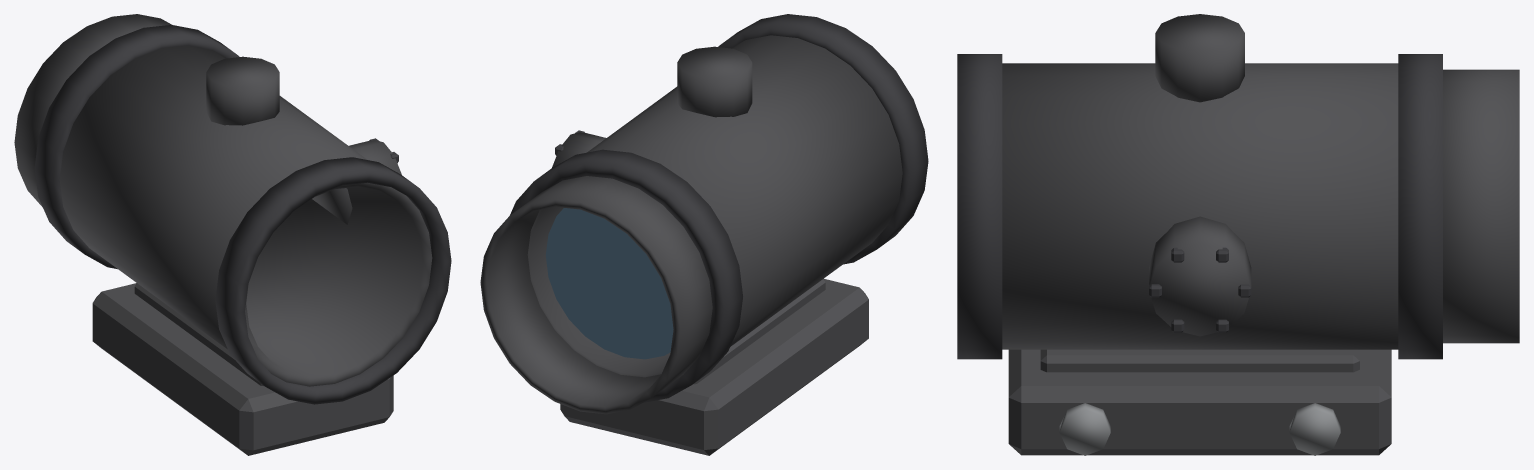
File: part_kolimator_t.glb
3 views of the same model, side by side, from view 1: azimuth 30°, elevation 25°; view 2: azimuth 150°, elevation 25°; view 3: azimuth 270°, elevation 25° (orthographic). The views are drawn at different scales.
Visible parts, largest first — view 1: Kolimator_t; view 2: Kolimator_t; view 3: Kolimator_t.
Part boxes in pixels (bbox=[...]): Kolimator_t: bbox=[14, 14, 451, 455]; Kolimator_t: bbox=[480, 14, 928, 455]; Kolimator_t: bbox=[957, 14, 1519, 455].
Bounding box in the file's own units: 0.056 × 0.066 × 0.088.
